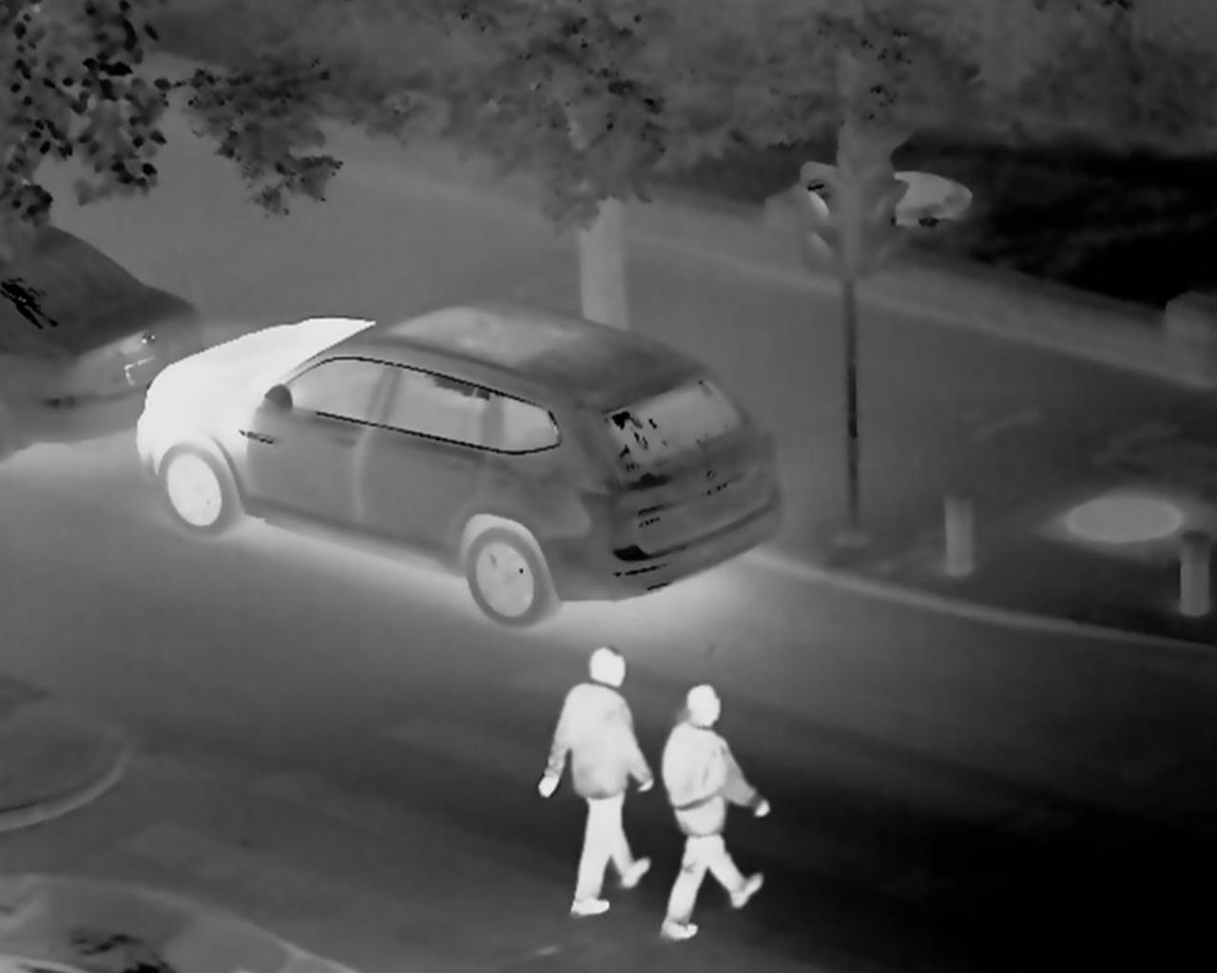person: (537, 641, 653, 919), (657, 678, 764, 927)
